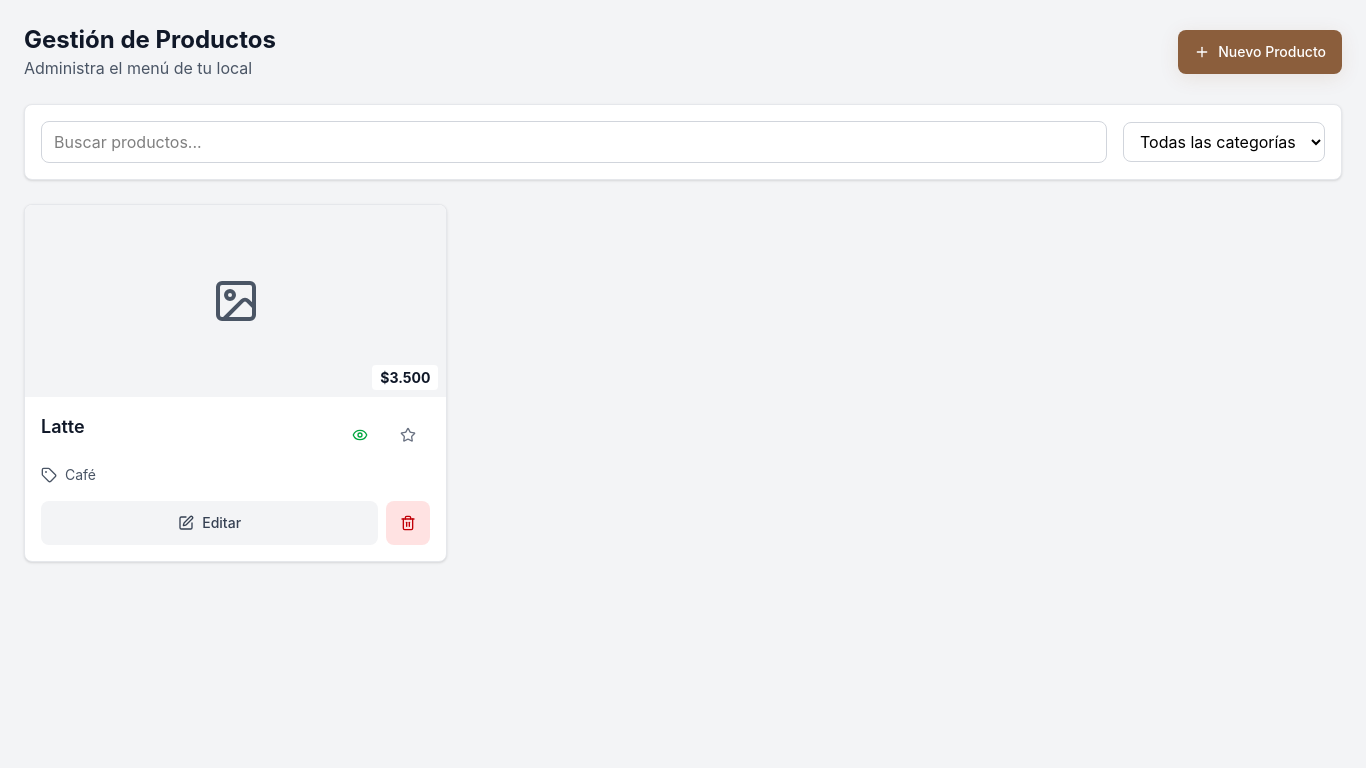
Test: catalog forms are reachable by label › finds the product create form fields by their labels
expect the heading "Latte" is shown: met, box [41,413,85,441]
Click the button "Nuevo Producto": point(1260, 52) [1178,30,1342,74]
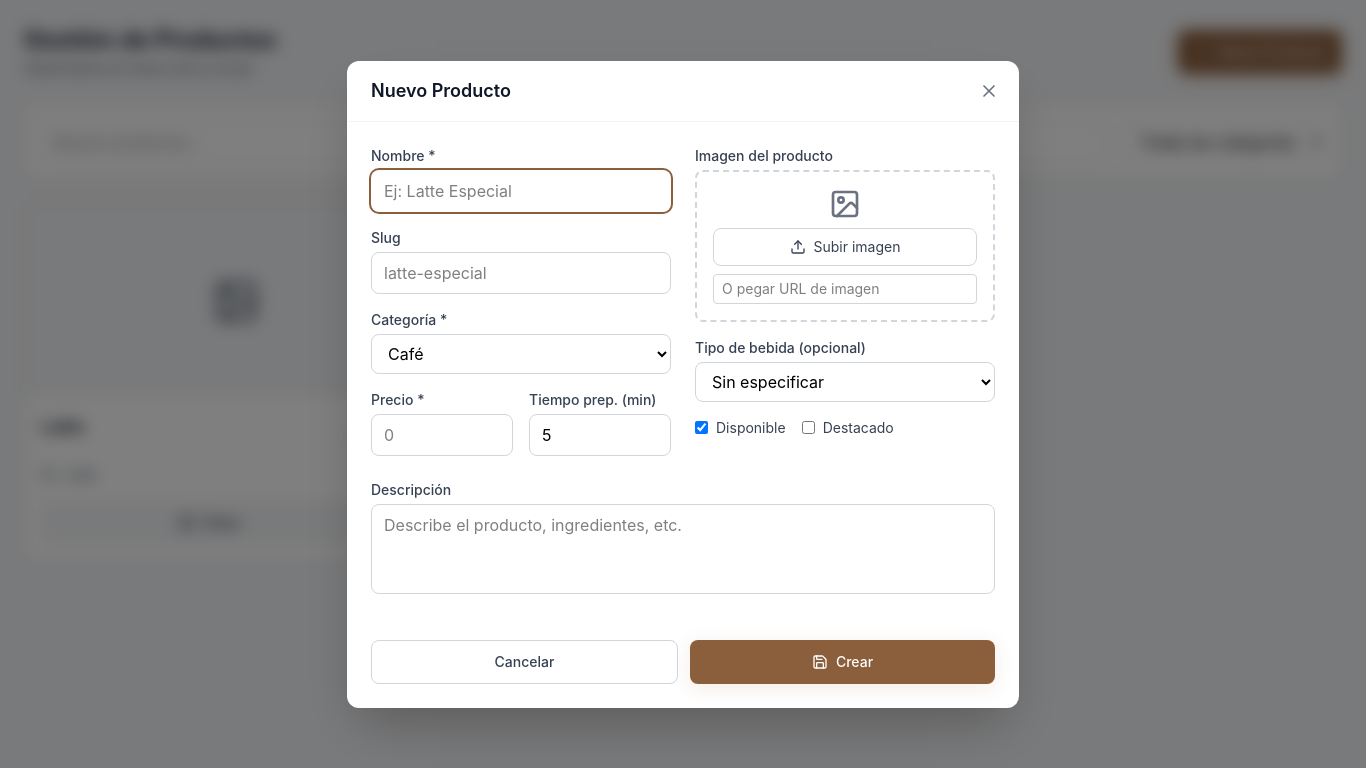
expect the element named "imagen del producto" is shown: met, box [695,170,995,322]
